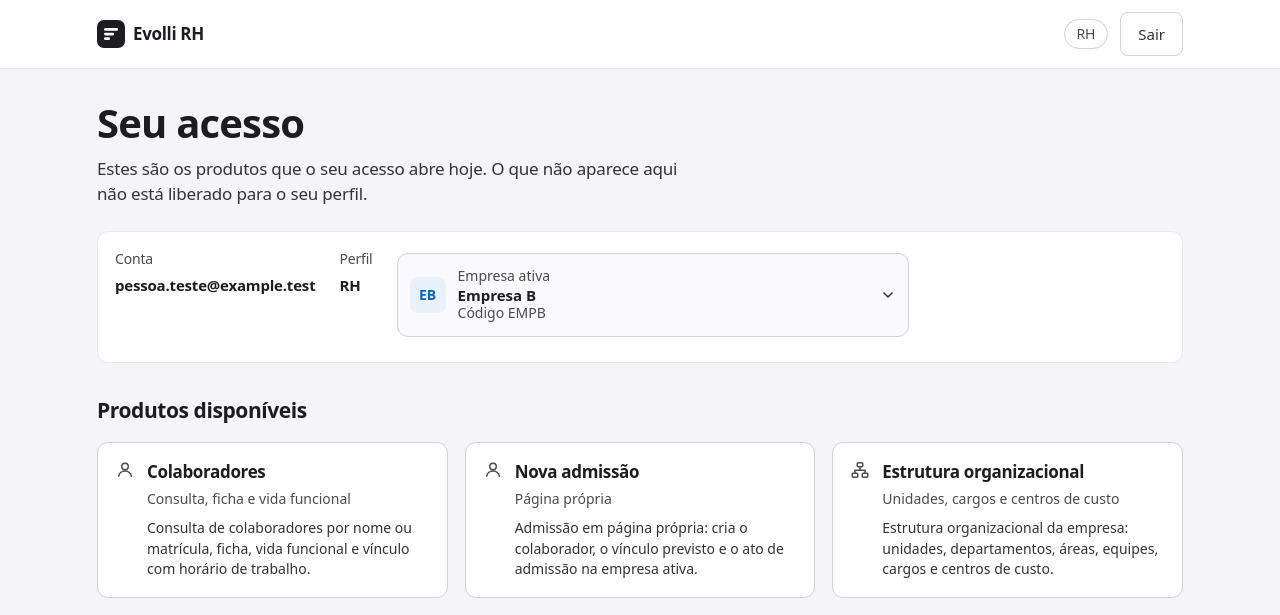
Test: T163/T189 — a troca passa pelo servidor, e nada nela é otimista › só avisa a troca DEPOIS de o servidor confirmar, e com a empresa confirmada
What coordinates should you click on to do the following:
click the button "EB Empresa ativa Empresa B Código EMPB"
I would click on:
 (428, 295)
Its box is [396,253,908,337].
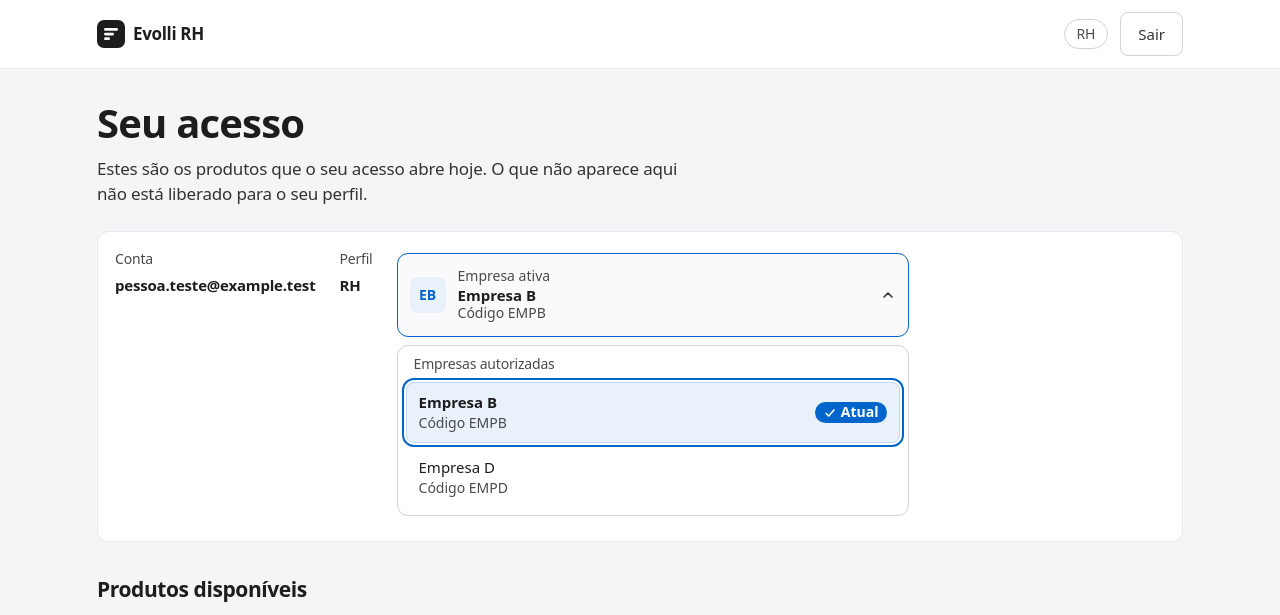
Expected: the list named "Empresas autorizadas" is shown, [406,382,900,508]
What coordinates should you click on to do the following:
click the button "Empresa D Código EMPD"
I would click on:
 (457, 467)
Its box is [406,447,900,507].
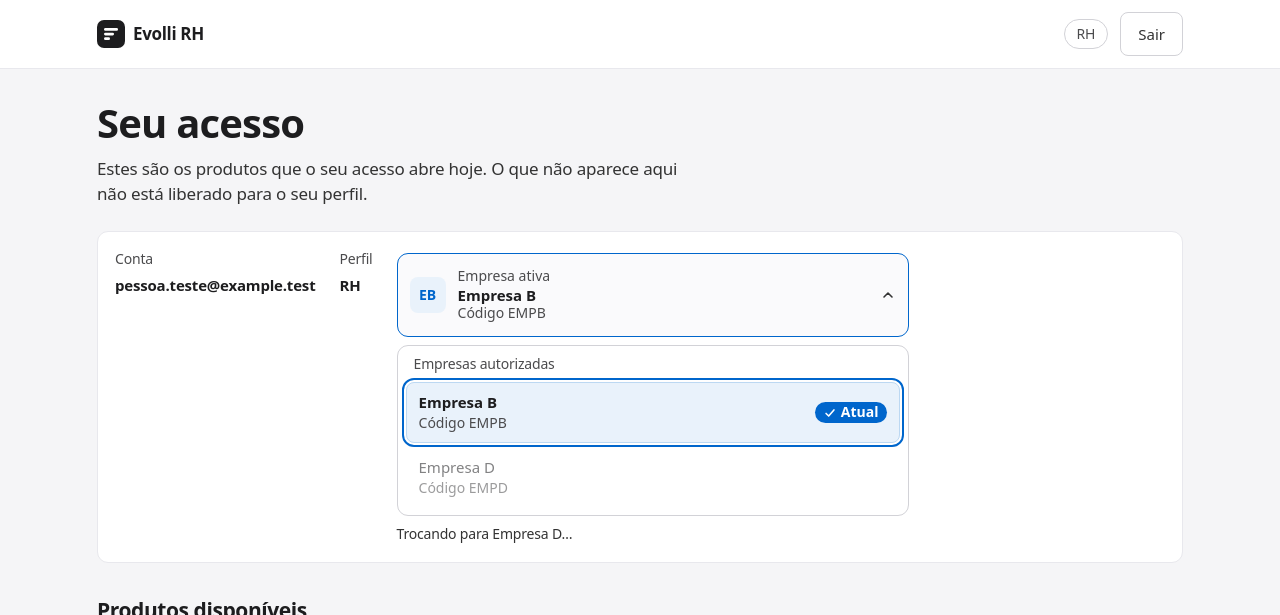
Expected: the text "Trocando para Empresa D…" is shown, [396,524,572,544]
Expected: the button "Empresa D Código EMPD" is disabled, [406,447,900,507]
